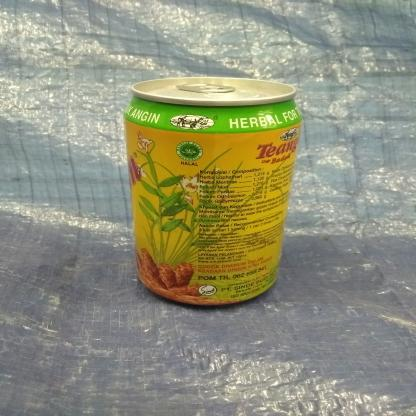can: (118, 70, 306, 308)
